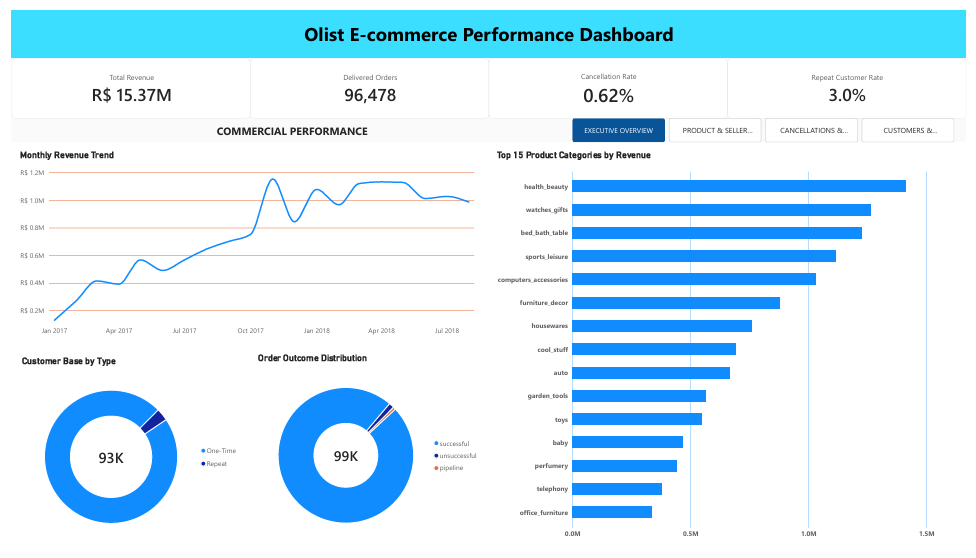

This screenshot's page, from the dashboard's own definition file:
{"tool":"powerbi","page":{"name":"EXECUTIVE OVERVIEW","canvas":[1920,1080],"ordinal":0},"visuals":[{"type":"lineChart","title":"Monthly Revenue Trend","fields":{"Category":["olist monthly_revenue.YearMonthDate"],"Y":["Sum(olist monthly_revenue.revenue)"]},"box":[0,264,960,408],"z":0},{"type":"donutChart","title":"Order Outcome Distribution","fields":{"Category":["olist order_completion_status.order_outcome"],"Y":["Sum(olist order_completion_status.order_count)"]},"box":[480,672,480,408],"z":4000},{"type":"donutChart","title":"Customer Base by Type","fields":{"Category":["olist customer_base.customer_type"],"Y":["Sum(olist customer_base.customer_count)"]},"box":[0,672,480,408],"z":6000},{"type":"actionButton","box":[0,0,100,40],"z":12002},{"type":"cardVisual","fields":{"Data":["Sum(olist monthly_revenue.revenue)"]},"box":[0,96,480,120],"z":12009},{"type":"cardVisual","fields":{"Data":["Sum(olist order_completion_status.order_count)"]},"box":[480,96,480,120],"z":12010},{"type":"cardVisual","fields":{"Data":["olist cancellation_trend_over_time.Cancellation Rate Card Label"]},"box":[960,96,480,120],"z":12011},{"type":"cardVisual","fields":{"Data":["Sum(olist customer_base.customer_share)"]},"box":[1440,96,480,120],"z":12012},{"type":"textbox","box":[0,216,1128,48],"z":12013},{"type":"clusteredBarChart","title":"Top 15 Product Categories by Revenue","fields":{"Category":["olist product_category_performance.product_category"],"Y":["Sum(olist product_category_performance.revenue)"]},"box":[960,264,960,816],"z":12014},{"type":"pageNavigator","box":[1128,216,768,48],"z":12015},{"type":"textbox","box":[0,0,1920,96],"z":12016}]}

Visuals, with their boxes in screenshot pixels (x1, y1, x2, y2), scaled from the page's 1920x1080 canvas onto the 976x558 screenshot:
"Monthly Revenue Trend" lineChart: box(0, 136, 488, 347)
"Order Outcome Distribution" donutChart: box(244, 347, 488, 557)
"Customer Base by Type" donutChart: box(0, 347, 244, 557)
actionButton: box(0, 0, 51, 21)
cardVisual - Sum(olist monthly_revenue.revenue): box(0, 50, 244, 112)
cardVisual - Sum(olist order_completion_status.order_count): box(244, 50, 488, 112)
cardVisual - olist cancellation_trend_over_time.Cancellation Rate Card Label: box(488, 50, 732, 112)
cardVisual - Sum(olist customer_base.customer_share): box(732, 50, 975, 112)
textbox: box(0, 112, 573, 136)
"Top 15 Product Categories by Revenue" clusteredBarChart: box(488, 136, 975, 557)
pageNavigator: box(573, 112, 964, 136)
textbox: box(0, 0, 975, 50)
